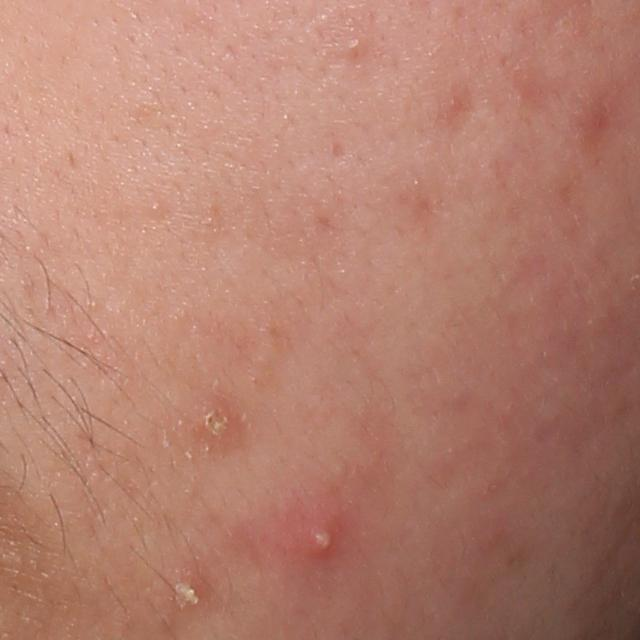comedo: (149, 201, 164, 217)
pustule: (300, 514, 339, 556), (193, 405, 231, 442), (170, 580, 204, 612)
